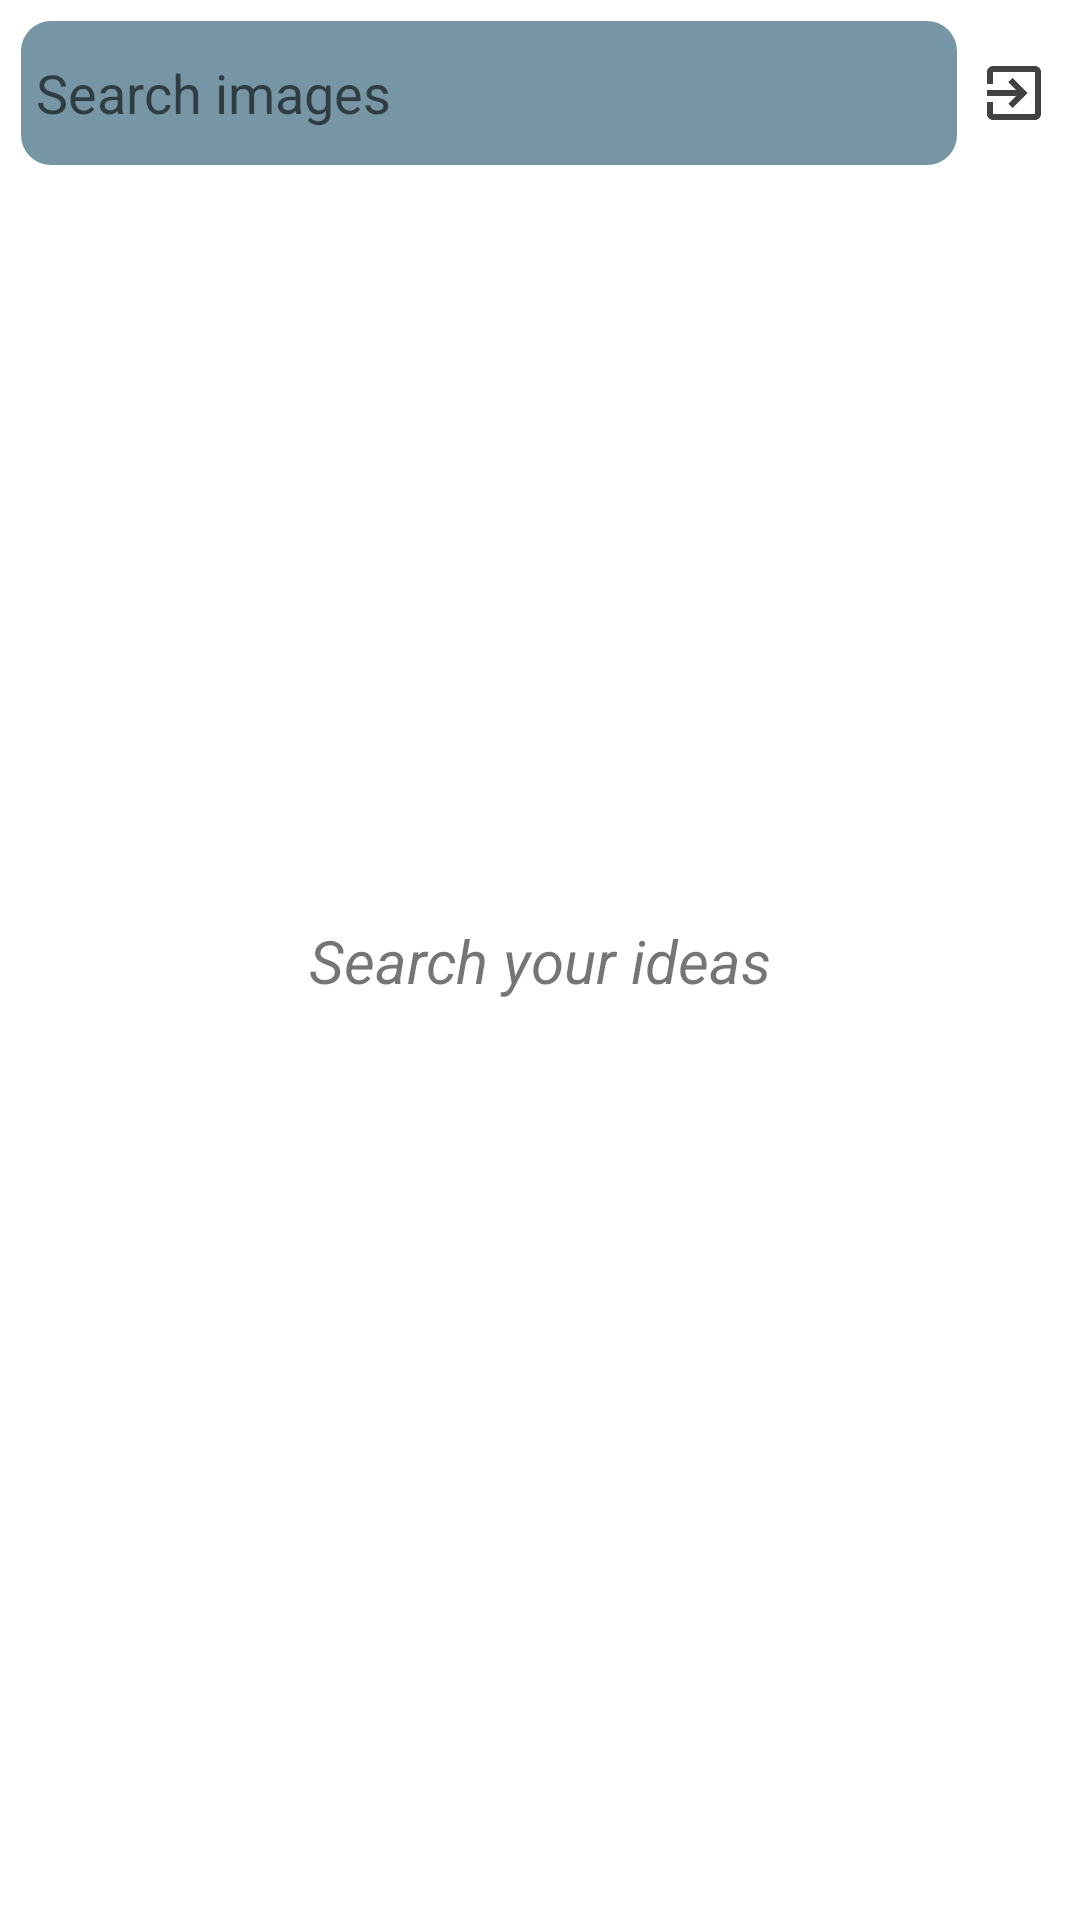

Named icons in this screenshot (1080*1920) and their centers, (x=x, y=y):
exit to app: (x=1014, y=93)
